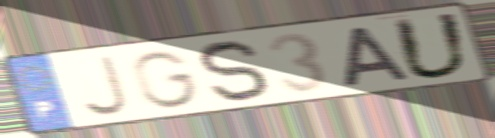3: (265, 29, 332, 96)
A: (341, 23, 415, 90)
G: (129, 49, 203, 111)
J: (78, 53, 132, 119)
S: (195, 37, 273, 106)
U: (389, 10, 474, 82)
